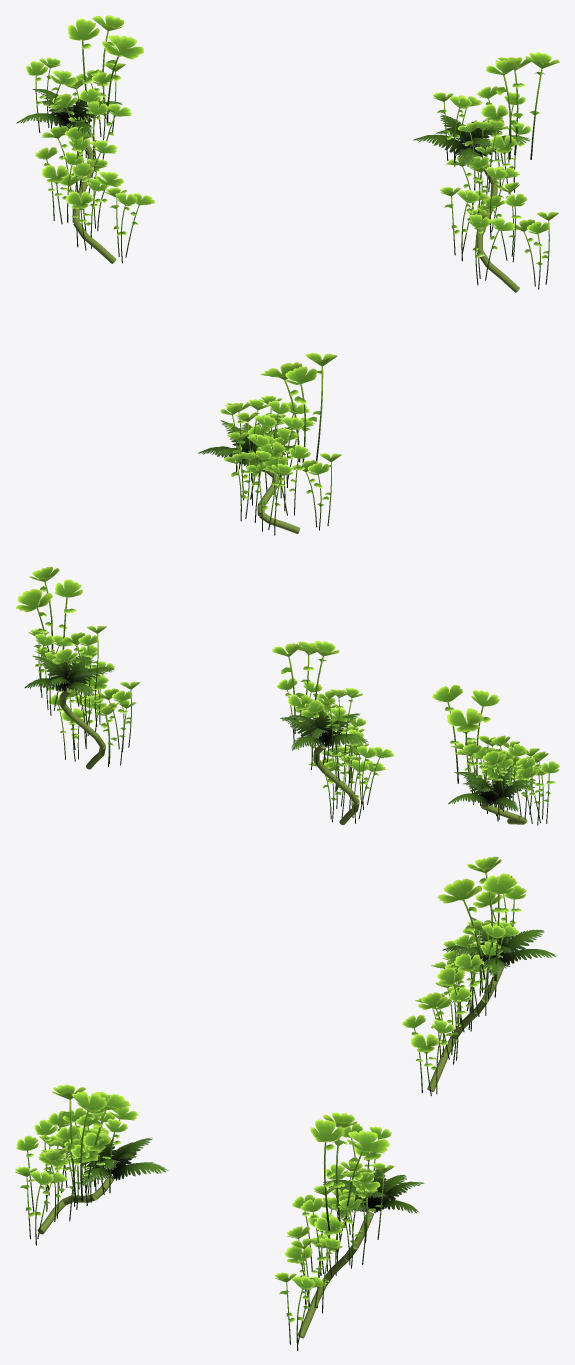
File: Old_Stone_Steps_Greenery.glb
The picture shows the model from 3 angles, top to bottom: view 1: azimuth 30°, elevation 25°; view 2: azimuth 150°, elevation 25°; view 3: azimuth 270°, elevation 25°; orthographic projection. The views are drawn at different scales.
Visible parts, largest first — view 1: Patch_02, Patch_01, Patch_00; view 2: Patch_01, Patch_02, Patch_00; view 3: Patch_01, Patch_02, Patch_00.
Boxes of the visible parts, left/top/right/bottom form: Patch_02: left=16, top=15, right=155, bottom=263; Patch_01: left=413, top=52, right=559, bottom=292; Patch_00: left=198, top=352, right=341, bottom=535; Patch_01: left=16, top=566, right=140, bottom=769; Patch_02: left=272, top=640, right=394, bottom=824; Patch_00: left=432, top=684, right=559, bottom=825; Patch_01: left=274, top=1112, right=424, bottom=1350; Patch_02: left=401, top=856, right=557, bottom=1095; Patch_00: left=15, top=1084, right=168, bottom=1245.
Bounding box in the file's own units: 2.16 × 1.59 × 2.11.
3 materials, 2 textured.
